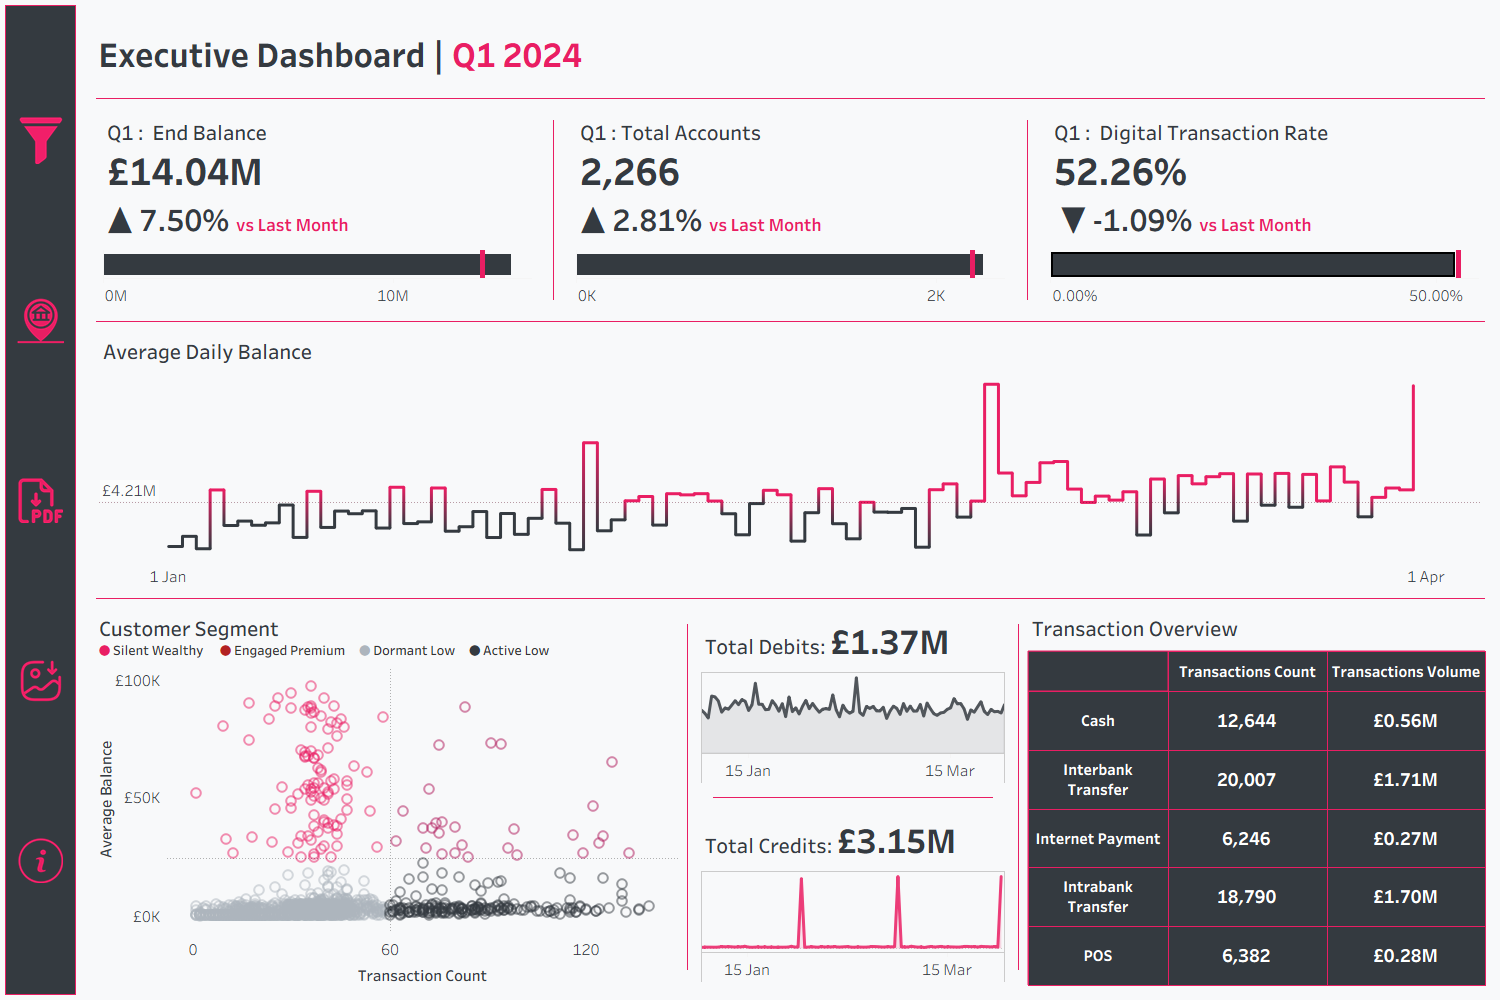

This screenshot's page, from the dashboard's own definition file:
{"tool":"tableau","page":{"name":"Dashboard 1","canvas":[1500,1000],"ordinal":0},"visuals":[{"type":"blank","box":[982,10,417,47]},{"type":"text","box":[16,16,1377,53]},{"type":"blank","box":[1408,38,70,79]},{"type":"filter","title":"Q1 balance","param":"[federated.0jd546i0ltew4g1cwf1n714vyswz].[none:branch_name:nk]","box":[982,57,417,73]},{"type":"text","box":[13,79,1383,41]},{"type":"blank","box":[25,81,1359,747]},{"type":"text","box":[12,89,1379,885]},{"type":"dashboard-object","box":[1408,117,70,79]},{"type":"worksheet","title":"Q1 balance","mark":"Pie","cols":["Calculation_343118026010337292","Calculation_343118026010337292"],"box":[16,123,337,319]},{"type":"worksheet","title":"Average day end balance","mark":"Automatic","rows":["branch_name"],"cols":["Calculation_587719781431541778"],"box":[353,123,414,319]},{"type":"worksheet","title":"Digitalisation gap","mark":"Circle","rows":["branch_name"],"box":[767,123,626,319]},{"type":"blank","box":[982,130,417,47]},{"type":"blank","box":[1408,196,70,79]},{"type":"dashboard-object","box":[1408,275,70,78]},{"type":"blank","box":[1408,353,70,78]},{"type":"dashboard-object","box":[1408,431,70,78]},{"type":"worksheet","title":"No of accounts","mark":"Bar","rows":["account_type"],"cols":["gold_dim_account.csv_CCD8B486F9754DC08EB1A8ADE149F38F","Calculation_587719781438984211"],"box":[13,445,340,542]},{"type":"worksheet","title":"Customer Behaviour","mark":"Automatic","rows":["no of txns per customer* (copy)_840484310074564609"],"cols":["Calculation_819092211889045505"],"box":[353,445,565,542]},{"type":"worksheet","title":"Channel Performance","mark":"Automatic","rows":["transaction_type","transaction_channel"],"cols":["gold_fact_transaction.csv_708EBA304979457F97BE6C01826EB474","Calculation_343118026028904466","amount"],"box":[918,445,478,542]},{"type":"blank","box":[1408,509,70,78]},{"type":"dashboard-object","box":[1408,587,70,78]},{"type":"blank","box":[1408,665,70,78]},{"type":"blank","box":[1408,743,70,78]},{"type":"blank","box":[1408,821,70,78]},{"type":"text","box":[25,828,1359,154]},{"type":"dashboard-object","box":[1408,899,70,78]}]}

Visuals, with their boxes on the page's 1500x1000 design canvas (x1, y1, x2, y2). These are canvas units, not pixel positions in the 1500x1000 screenshot, which may show the page scaled, cropped or inside an application window:
blank: locate(982, 10, 1399, 57)
text: locate(16, 16, 1393, 69)
blank: locate(1408, 38, 1478, 117)
"Q1 balance" filter: locate(982, 57, 1399, 130)
text: locate(13, 79, 1396, 120)
blank: locate(25, 81, 1384, 828)
text: locate(12, 89, 1391, 974)
dashboard-object: locate(1408, 117, 1478, 196)
"Q1 balance" worksheet (Pie marks): locate(16, 123, 353, 442)
"Average day end balance" worksheet: locate(353, 123, 767, 442)
"Digitalisation gap" worksheet (Circle marks): locate(767, 123, 1393, 442)
blank: locate(982, 130, 1399, 177)
blank: locate(1408, 196, 1478, 275)
dashboard-object: locate(1408, 275, 1478, 353)
blank: locate(1408, 353, 1478, 431)
dashboard-object: locate(1408, 431, 1478, 509)
"No of accounts" worksheet (Bar marks): locate(13, 445, 353, 987)
"Customer Behaviour" worksheet: locate(353, 445, 918, 987)
"Channel Performance" worksheet: locate(918, 445, 1396, 987)
blank: locate(1408, 509, 1478, 587)
dashboard-object: locate(1408, 587, 1478, 665)
blank: locate(1408, 665, 1478, 743)
blank: locate(1408, 743, 1478, 821)
blank: locate(1408, 821, 1478, 899)
text: locate(25, 828, 1384, 982)
dashboard-object: locate(1408, 899, 1478, 977)
